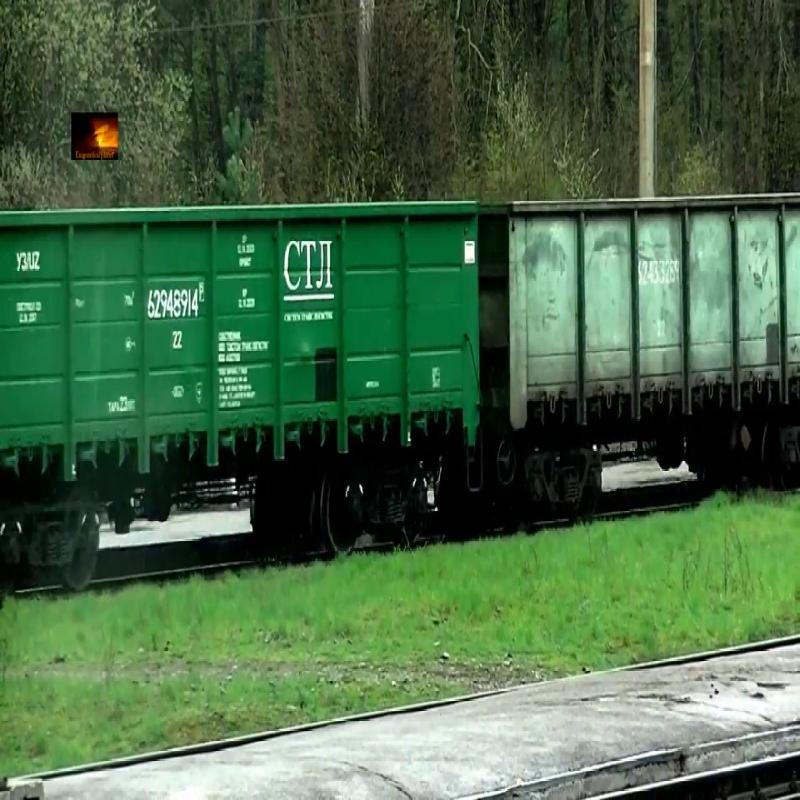train: (1, 197, 481, 499), (481, 192, 798, 452)
